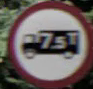Heavy Vehicles: (10, 6, 86, 77)
